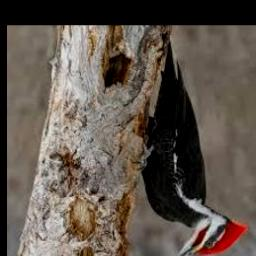Woodpecker: (140, 38, 248, 256)
